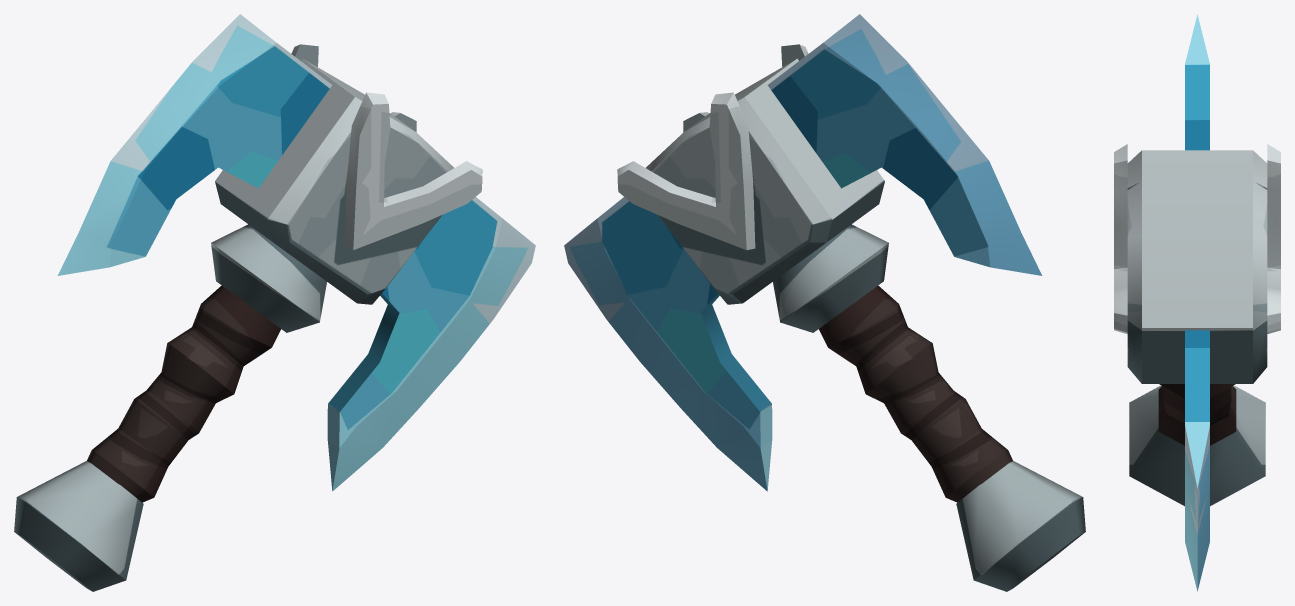
File: antiquity ice_03.FBX
The picture shows the model from 3 angles, left to right: view 1: azimuth 30°, elevation 25°; view 2: azimuth 150°, elevation 25°; view 3: azimuth 270°, elevation 25°; orthographic projection. The views are drawn at different scales.
Visible parts, largest first — view 1: antiquity ice_03; view 2: antiquity ice_03; view 3: antiquity ice_03.
Part boxes in pixels (<box>): antiquity ice_03: <box>14,14,535,591</box>; antiquity ice_03: <box>564,14,1085,591</box>; antiquity ice_03: <box>1114,14,1280,591</box>.
Bounding box in the file's own units: 68.9 × 68.6 × 18.24.
